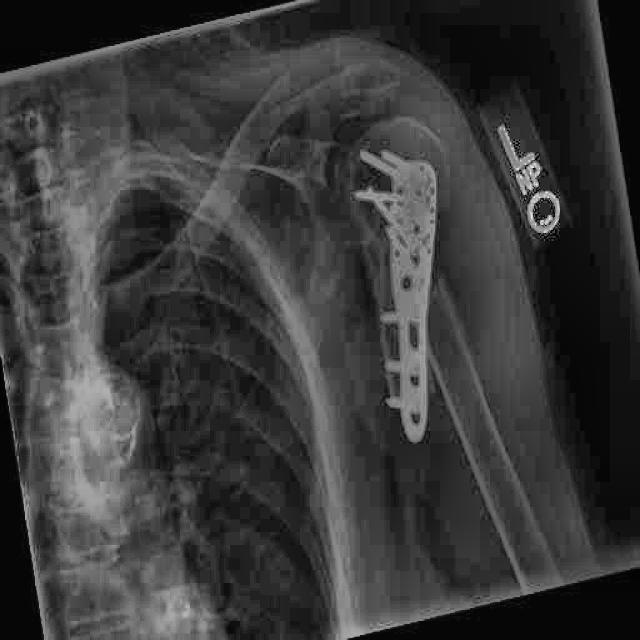shoulder fracture: (355, 268, 471, 442), (414, 254, 478, 400), (421, 163, 474, 235)
